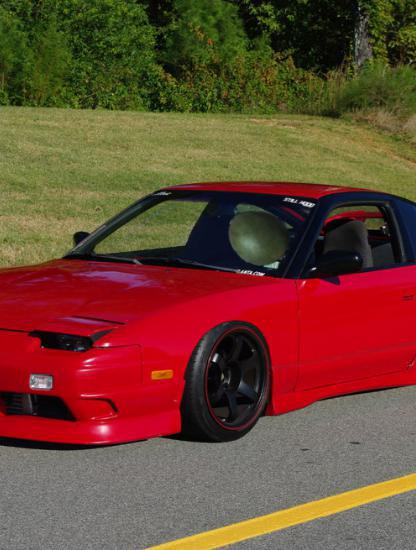Mango: (226, 205, 292, 271)
